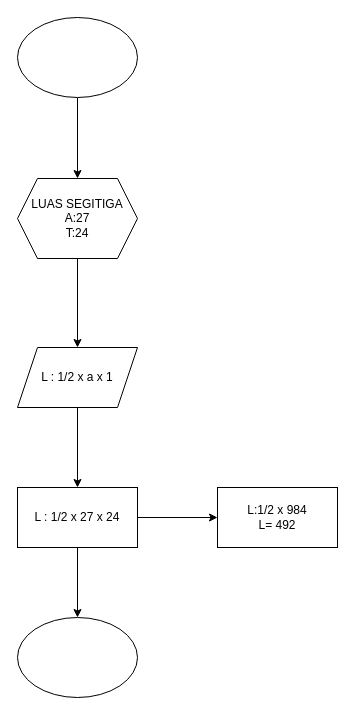
Some shapes in this 355 by 715 pixel diagram are drawn without their labels. Each missing label, with the centre of its shape:
END: [77,657]
STAR: [77,57]
